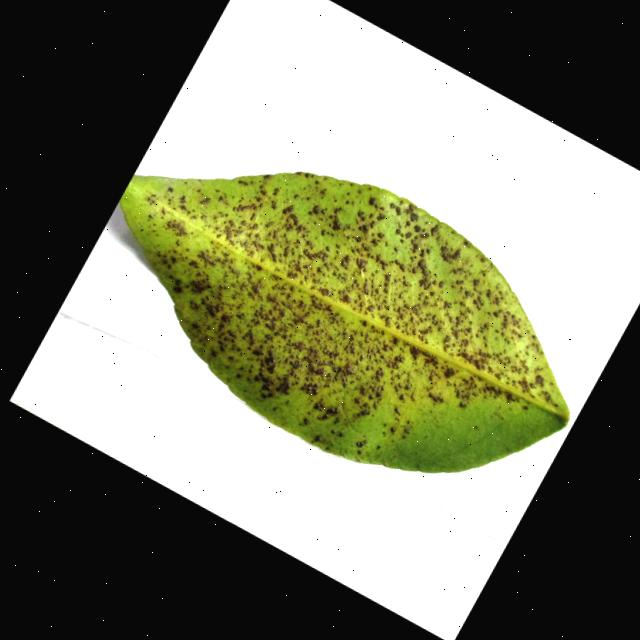melanose: (120, 173, 569, 473)
